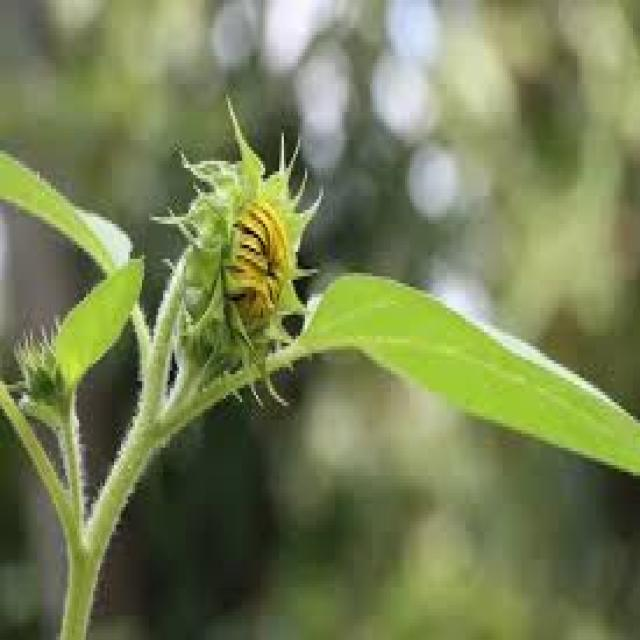Unbloomed: (152, 98, 324, 406)
